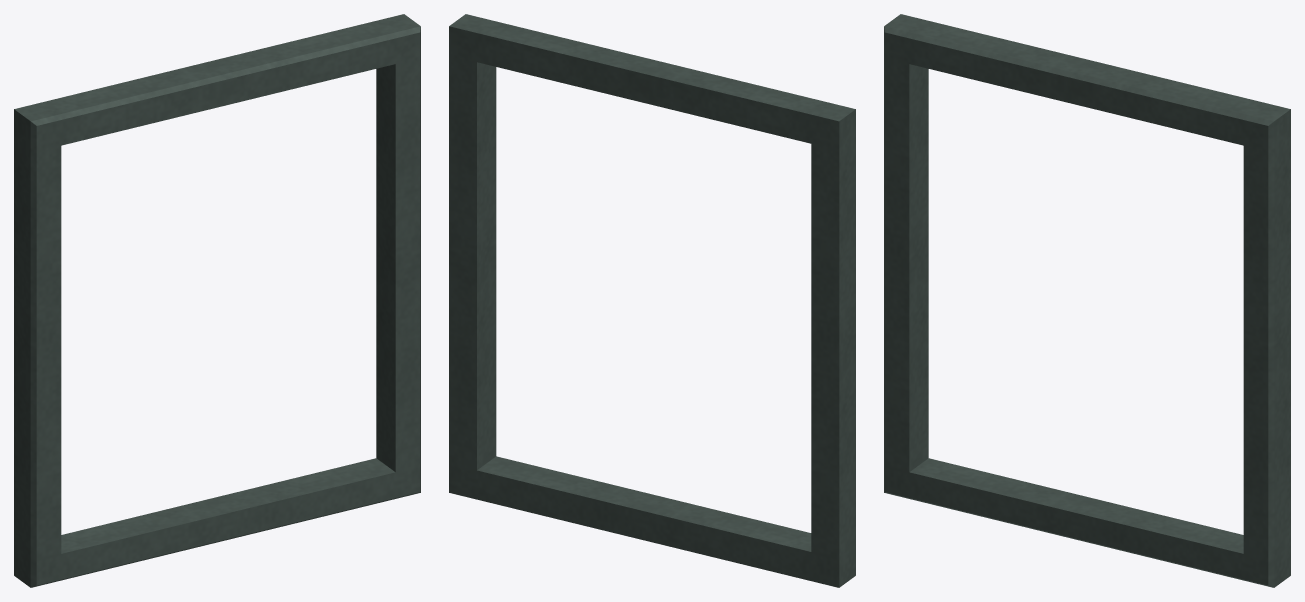
The model's file is heritage-window-frame.lod0.glb.
3 renders of one model, left to right at view 1: azimuth 30°, elevation 25°; view 2: azimuth 150°, elevation 25°; view 3: azimuth 330°, elevation 25°, orthographic.
Visible parts, largest first — view 1: heritage-window-frame; view 2: heritage-window-frame; view 3: heritage-window-frame.
Boxes of the visible parts, x1,y1,x2,y2 form: heritage-window-frame: (14,14,420,587); heritage-window-frame: (449,14,855,587); heritage-window-frame: (884,14,1290,587).
Bounding box in the file's own units: 1.4 × 1.6 × 0.12.
1 material, 1 textured.
